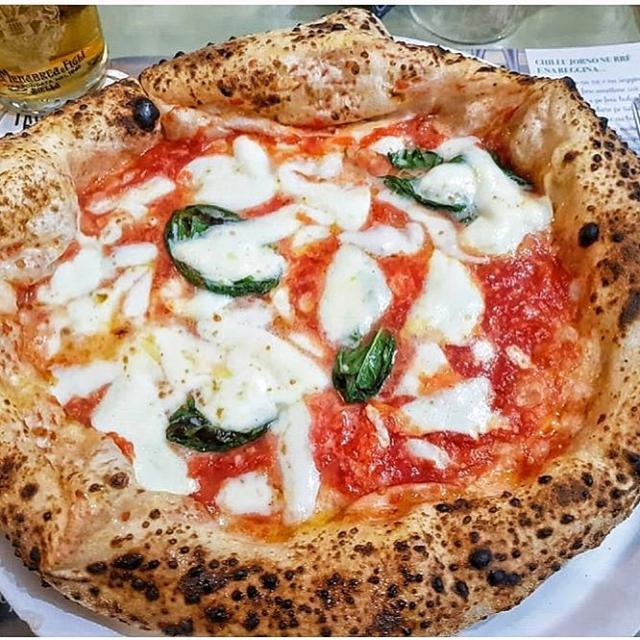basil: (376, 141, 534, 225), (161, 197, 285, 300), (163, 393, 272, 451), (331, 321, 397, 405)
pizza: (0, 8, 640, 637)
